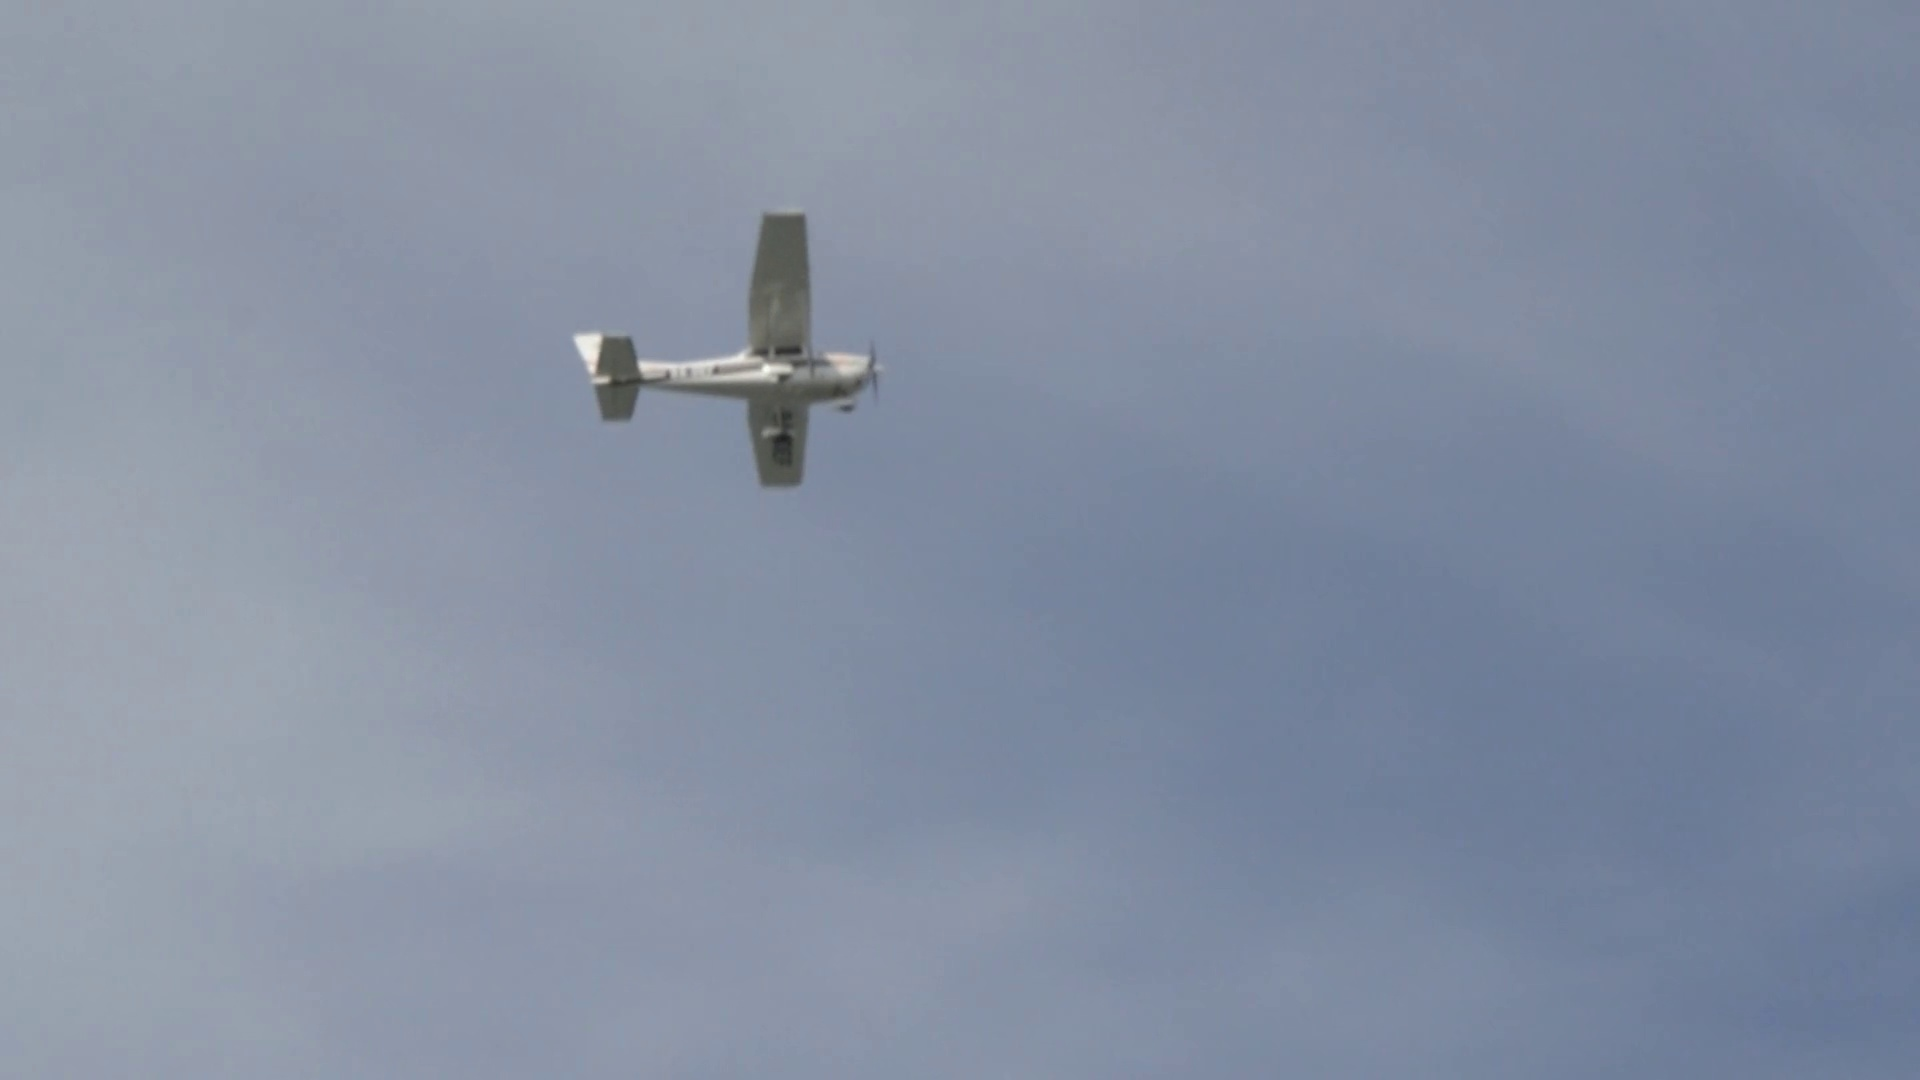plane: (570, 206, 882, 488)
